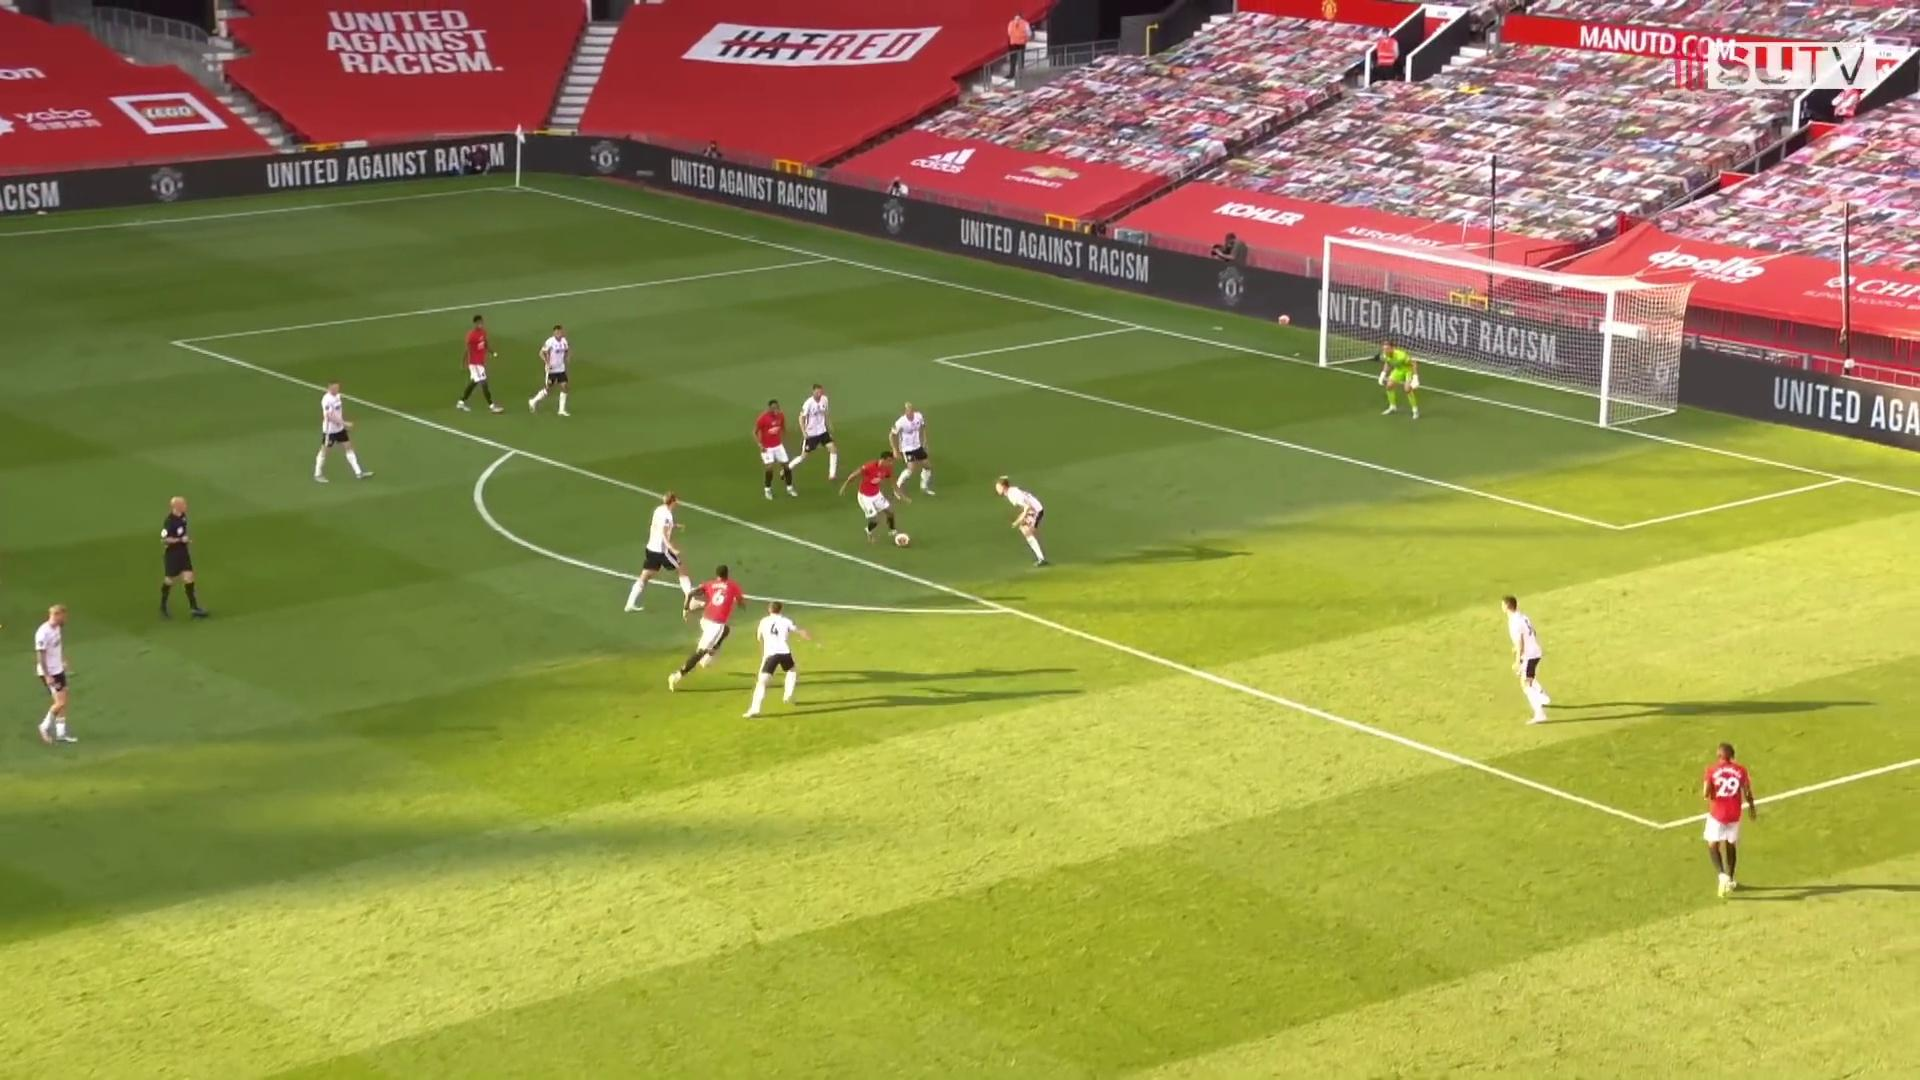ball: (889, 529, 915, 552), (1275, 311, 1295, 331)
goalkeeper: (1374, 338, 1424, 424)
player: (663, 559, 751, 698), (621, 486, 711, 616), (738, 596, 814, 723), (1700, 740, 1760, 900), (27, 599, 87, 749), (835, 444, 916, 547), (1497, 591, 1555, 729), (311, 374, 378, 489), (775, 380, 846, 484), (747, 395, 806, 505), (451, 309, 509, 419), (992, 475, 1057, 571), (885, 398, 944, 500), (523, 321, 579, 424)
referee: (155, 492, 212, 624)
